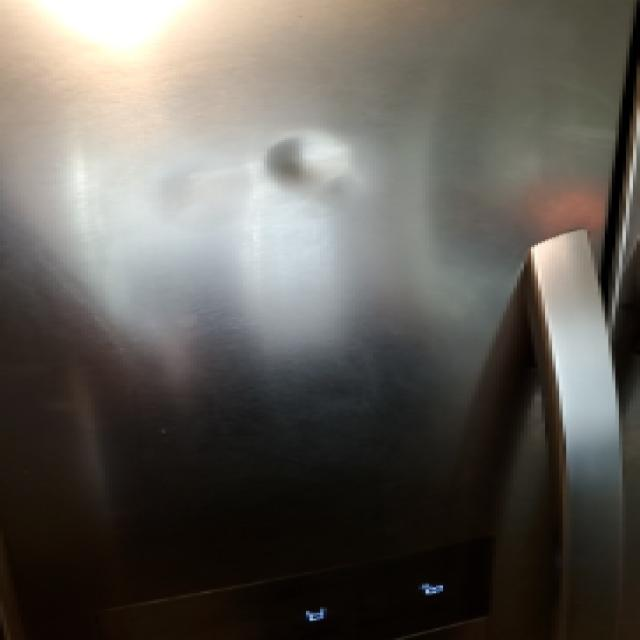dents: (267, 132, 395, 221)
